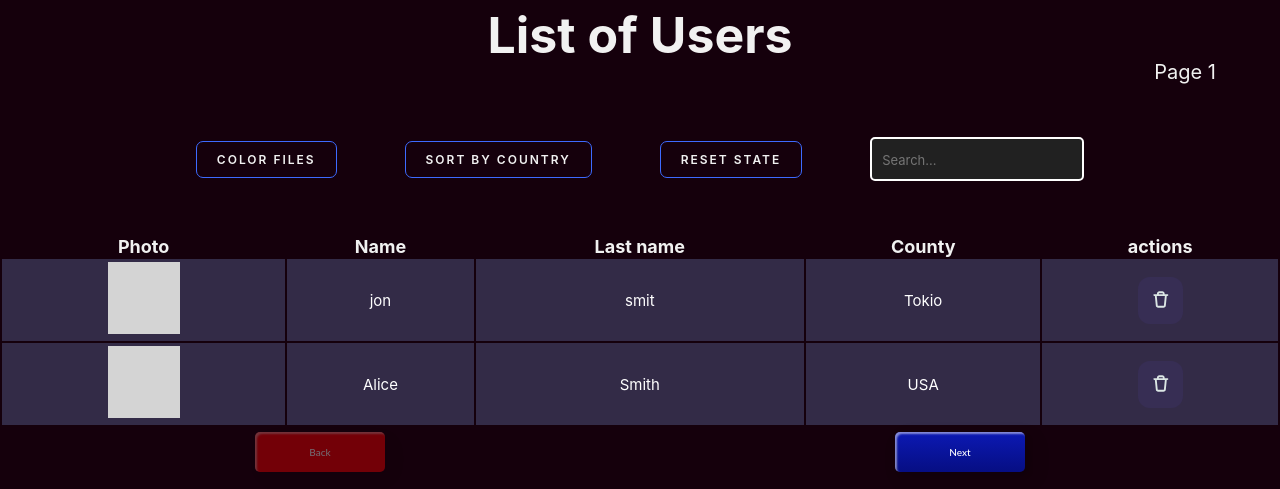
App Component Tests › renders data and navigates to next page
Check: the button "Back" is shown, box [255,432,385,472]
Check: the text "Page 1" is shown, box [1154,60,1216,84]
Click the button "Next" at {"x": 960, "y": 452}, box [895,432,1025,472]
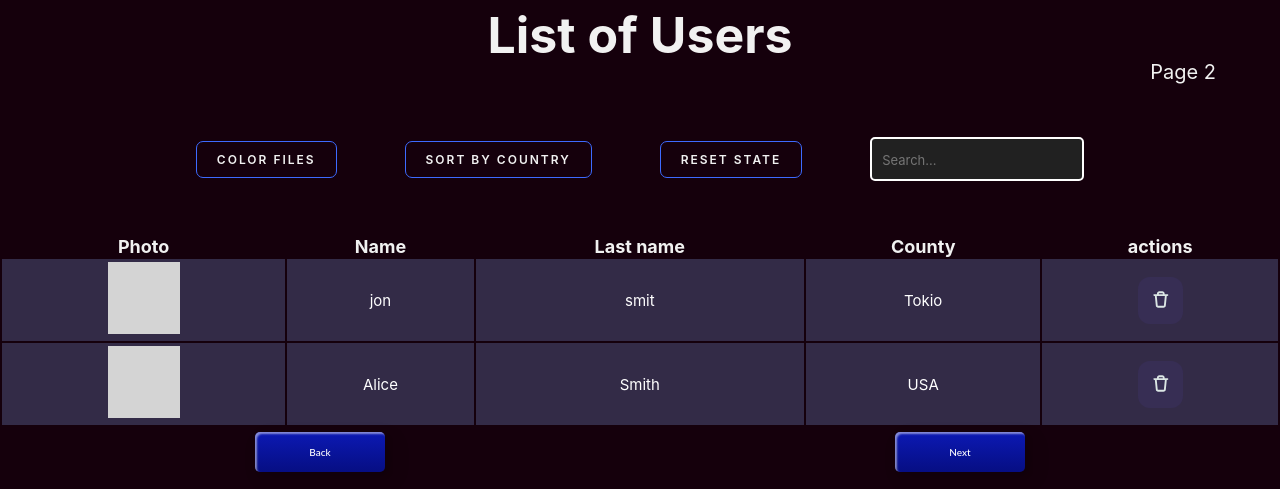
Check: the text "Page 2" is shown, box [1150,60,1216,84]
